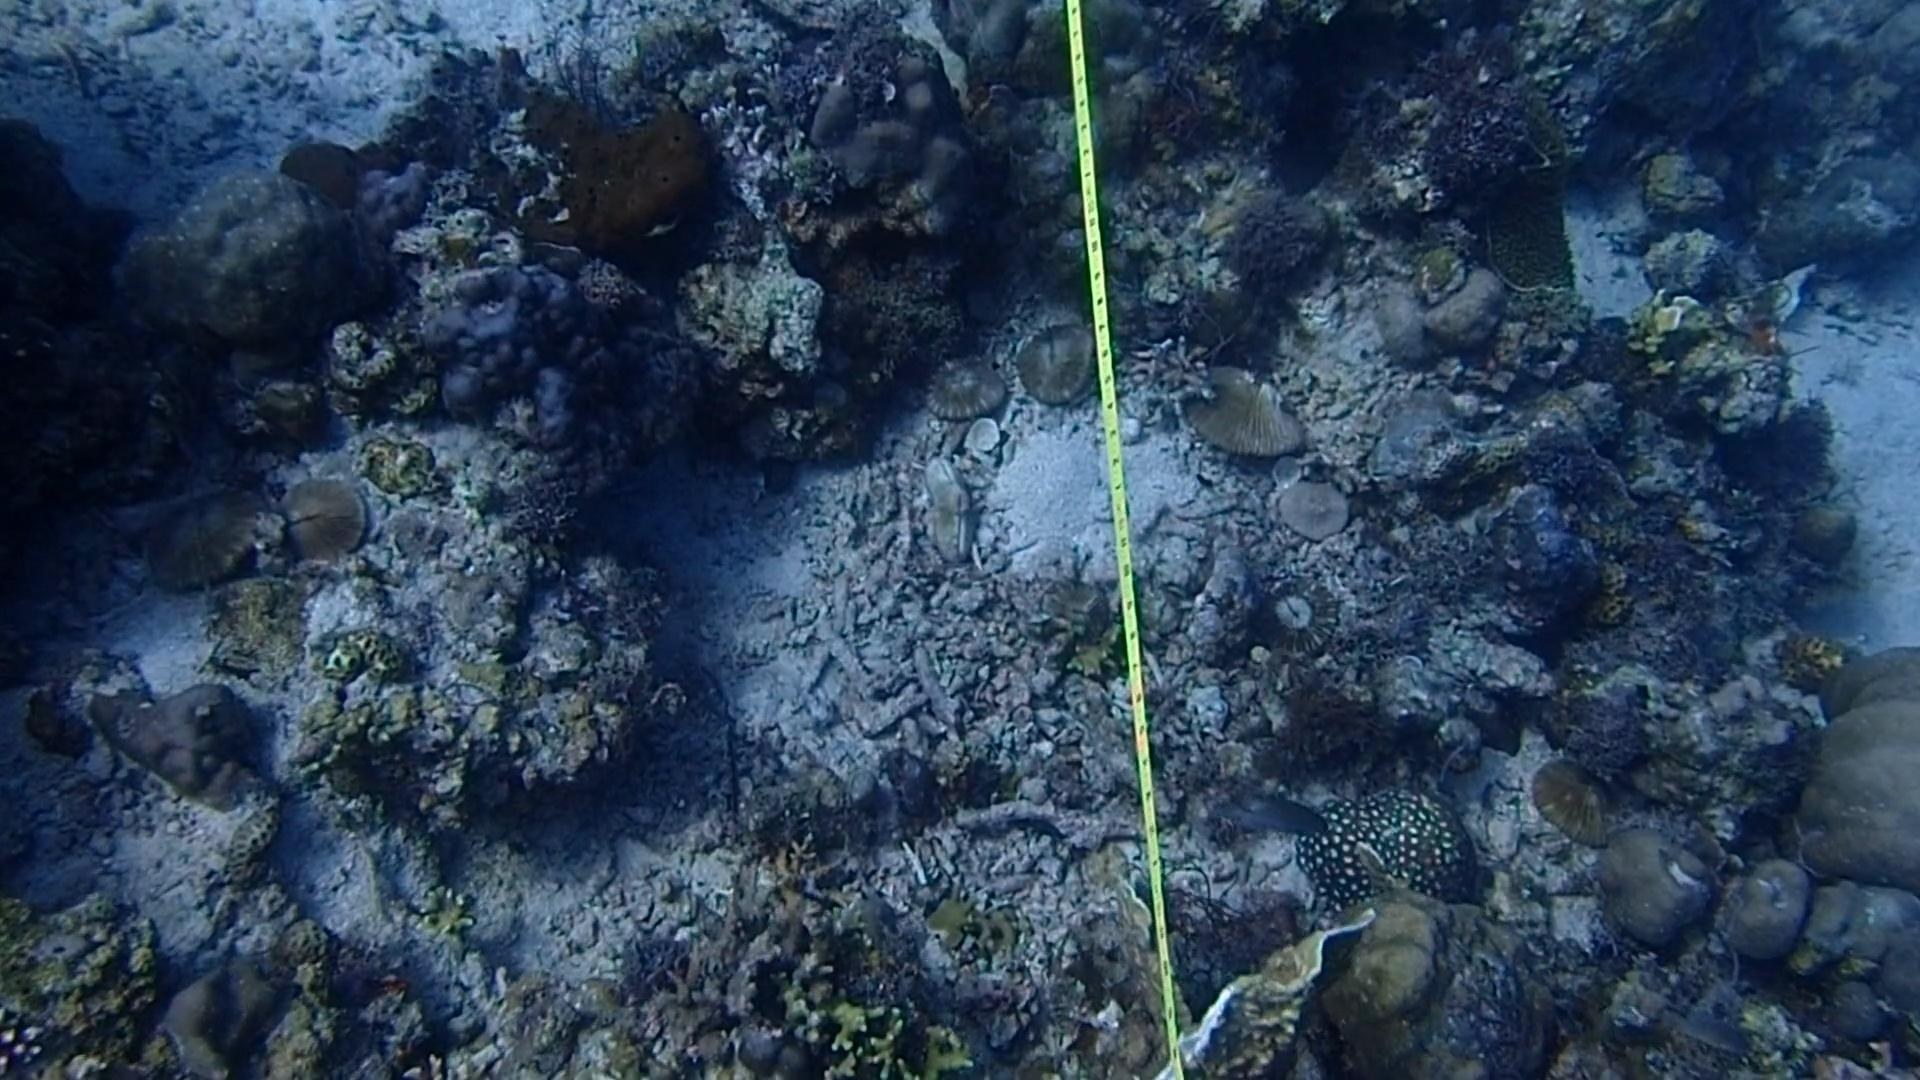Light Fish: (1208, 767, 1333, 857)
